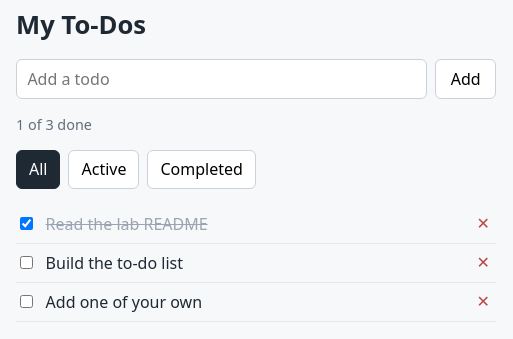
Test: active filter shows only incomplete todos
What coordinates should you click on to do the following:
click the button "Active"
I would click on:
 (104, 169)
Its box is [68, 150, 140, 188].
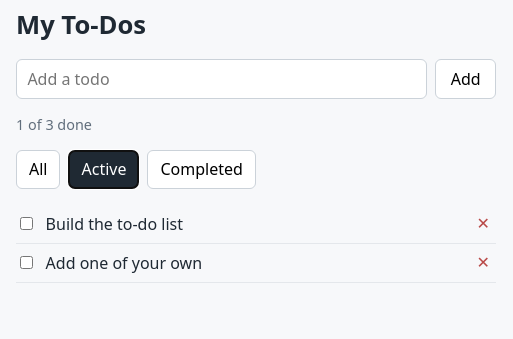
Expected: the text "Build the to-do list" is shown, [46, 212, 183, 234]
Expected: the text "Read the lab README" is gone
